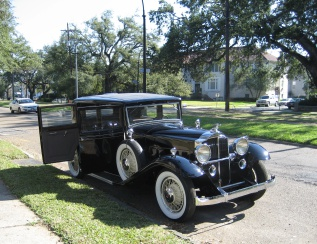car: (37, 95, 271, 222), (8, 99, 40, 114), (256, 95, 275, 106), (278, 98, 293, 106)
